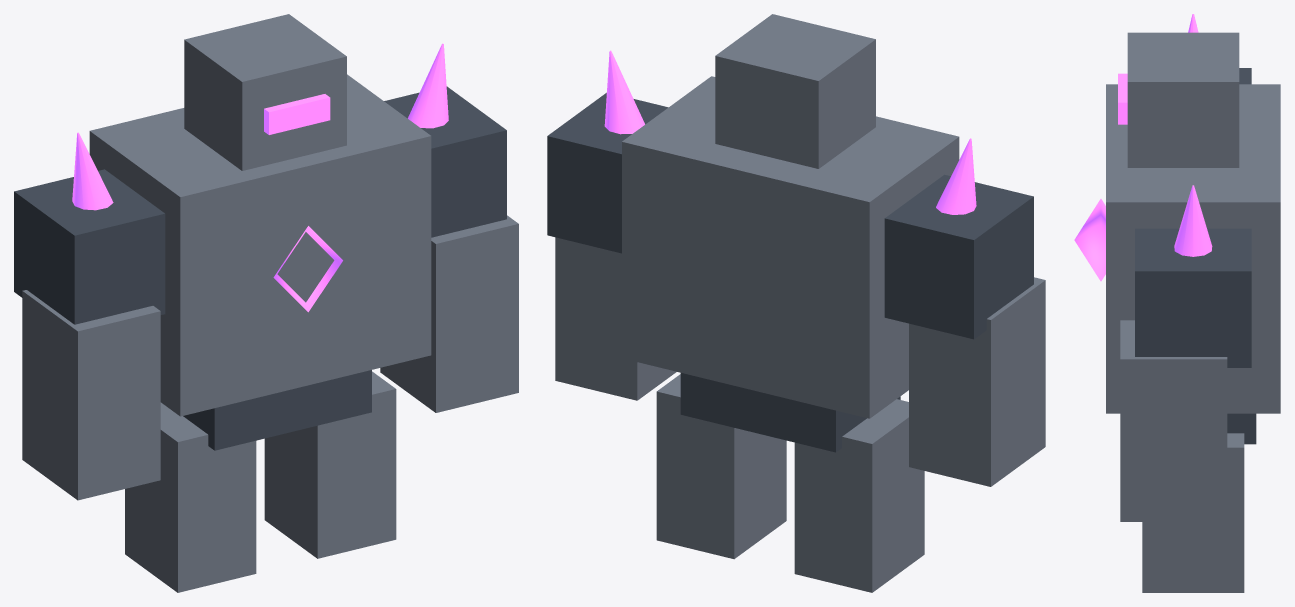
Rendered from construct_golem.glb.
3 views of the same model, side by side, from view 1: azimuth 30°, elevation 25°; view 2: azimuth 150°, elevation 25°; view 3: azimuth 270°, elevation 25° (orthographic). The views are drawn at different scales.
Visible parts, largest first — view 1: body; view 2: body; view 3: body.
Part boxes in pixels (x1=…): body: x1=14, y1=14, x2=518, y2=592; body: x1=547, y1=14, x2=1045, y2=592; body: x1=1074, y1=14, x2=1280, y2=592.
Bounding box in the file's own units: 2.02 × 2.2 × 0.85.
